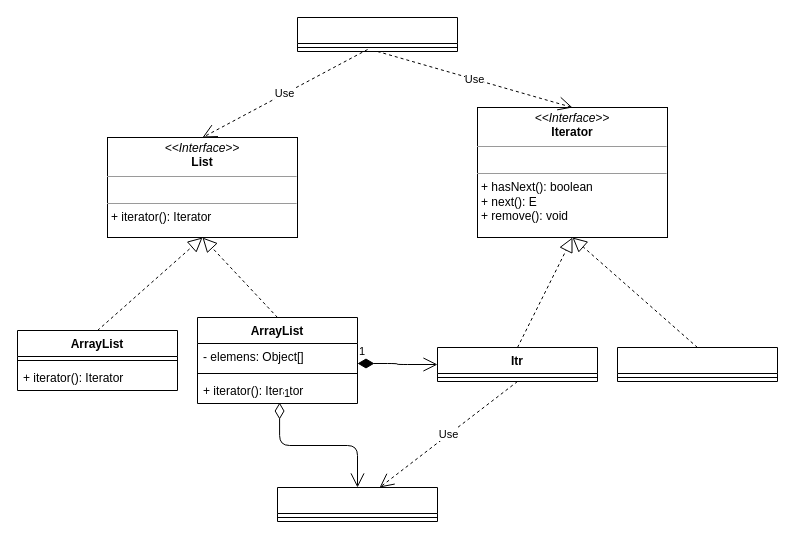
Image size: 795x539. Some labels were removed from this diagram. Each missing label, with the centre of its shape:
"Client" goes at point 377,34.
"Enumerator" goes at point 697,364.
"Object" goes at point 357,504.
